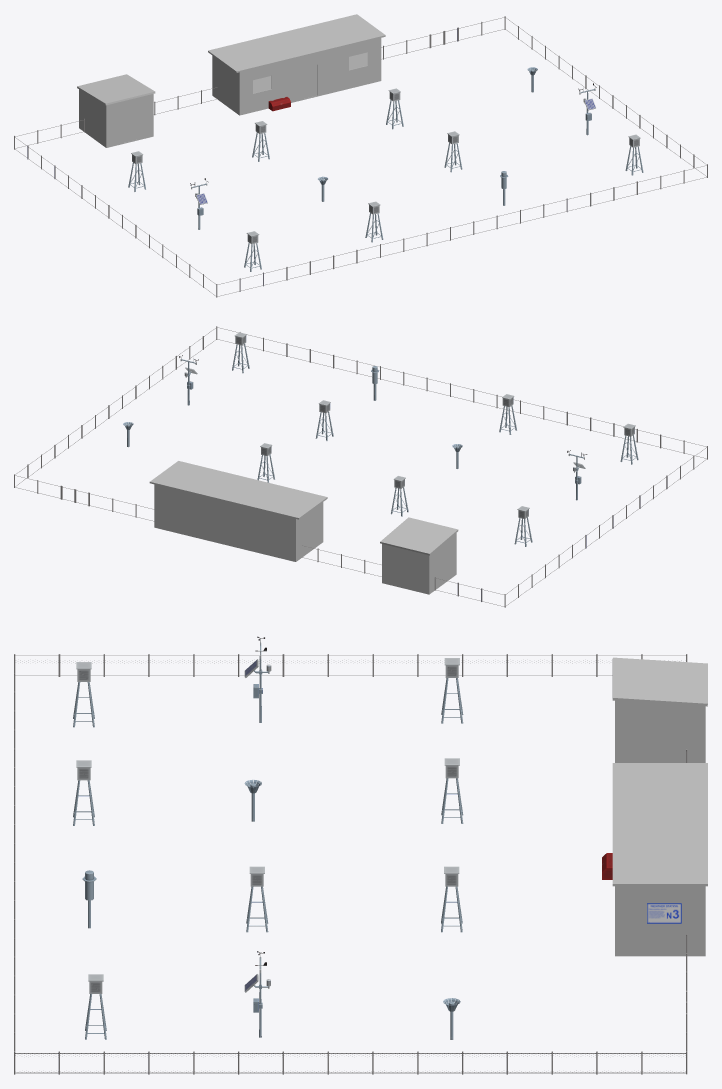
Rendered from Meteoestacion03.fbx.
The picture shows the model from 3 angles, top to bottom: view 1: azimuth 30°, elevation 25°; view 2: azimuth 150°, elevation 25°; view 3: azimuth 270°, elevation 25°; orthographic projection. The views are drawn at different scales.
Parts seen in each view (by area): view 1: changeHaus01.002, changeHaus04.001, fence.068, changeHaus01.004, changeHaus04.002, door; view 2: changeHaus01.002, changeHaus04.001, fence.068, changeHaus01.004, changeHaus04.002; view 3: changeHaus04.001, fence.068, changeHaus01.002, changeHaus01.004, changeHaus04.002, tabl01.005.
Part boxes in pixels (<box>): changeHaus01.002: <box>212,38,381,114</box>; changeHaus04.001: <box>208,14,385,72</box>; fence.068: <box>14,16,707,297</box>; changeHaus01.004: <box>79,89,153,147</box>; changeHaus04.002: <box>77,74,155,105</box>; door: <box>303,65,317,98</box>; changeHaus01.002: <box>154,484,323,561</box>; changeHaus04.001: <box>149,461,327,519</box>; fence.068: <box>14,326,707,607</box>; changeHaus01.004: <box>382,533,456,593</box>; changeHaus04.002: <box>380,517,458,555</box>; changeHaus04.001: <box>612,763,707,886</box>; fence.068: <box>14,654,687,1074</box>; changeHaus01.002: <box>615,886,705,954</box>; changeHaus01.004: <box>615,700,705,762</box>; changeHaus04.002: <box>612,657,707,706</box>; tabl01.005: <box>647,903,681,923</box>.
Size of the model in its own units: 4154 by 393 by 3061.
